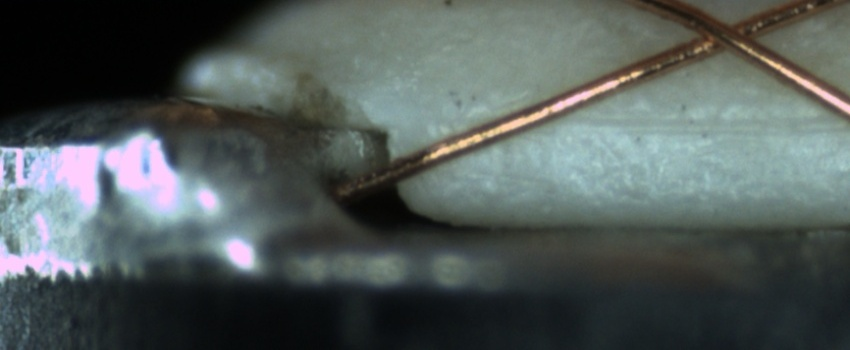CL: (668, 3, 778, 64)
DL: (470, 91, 850, 154)
